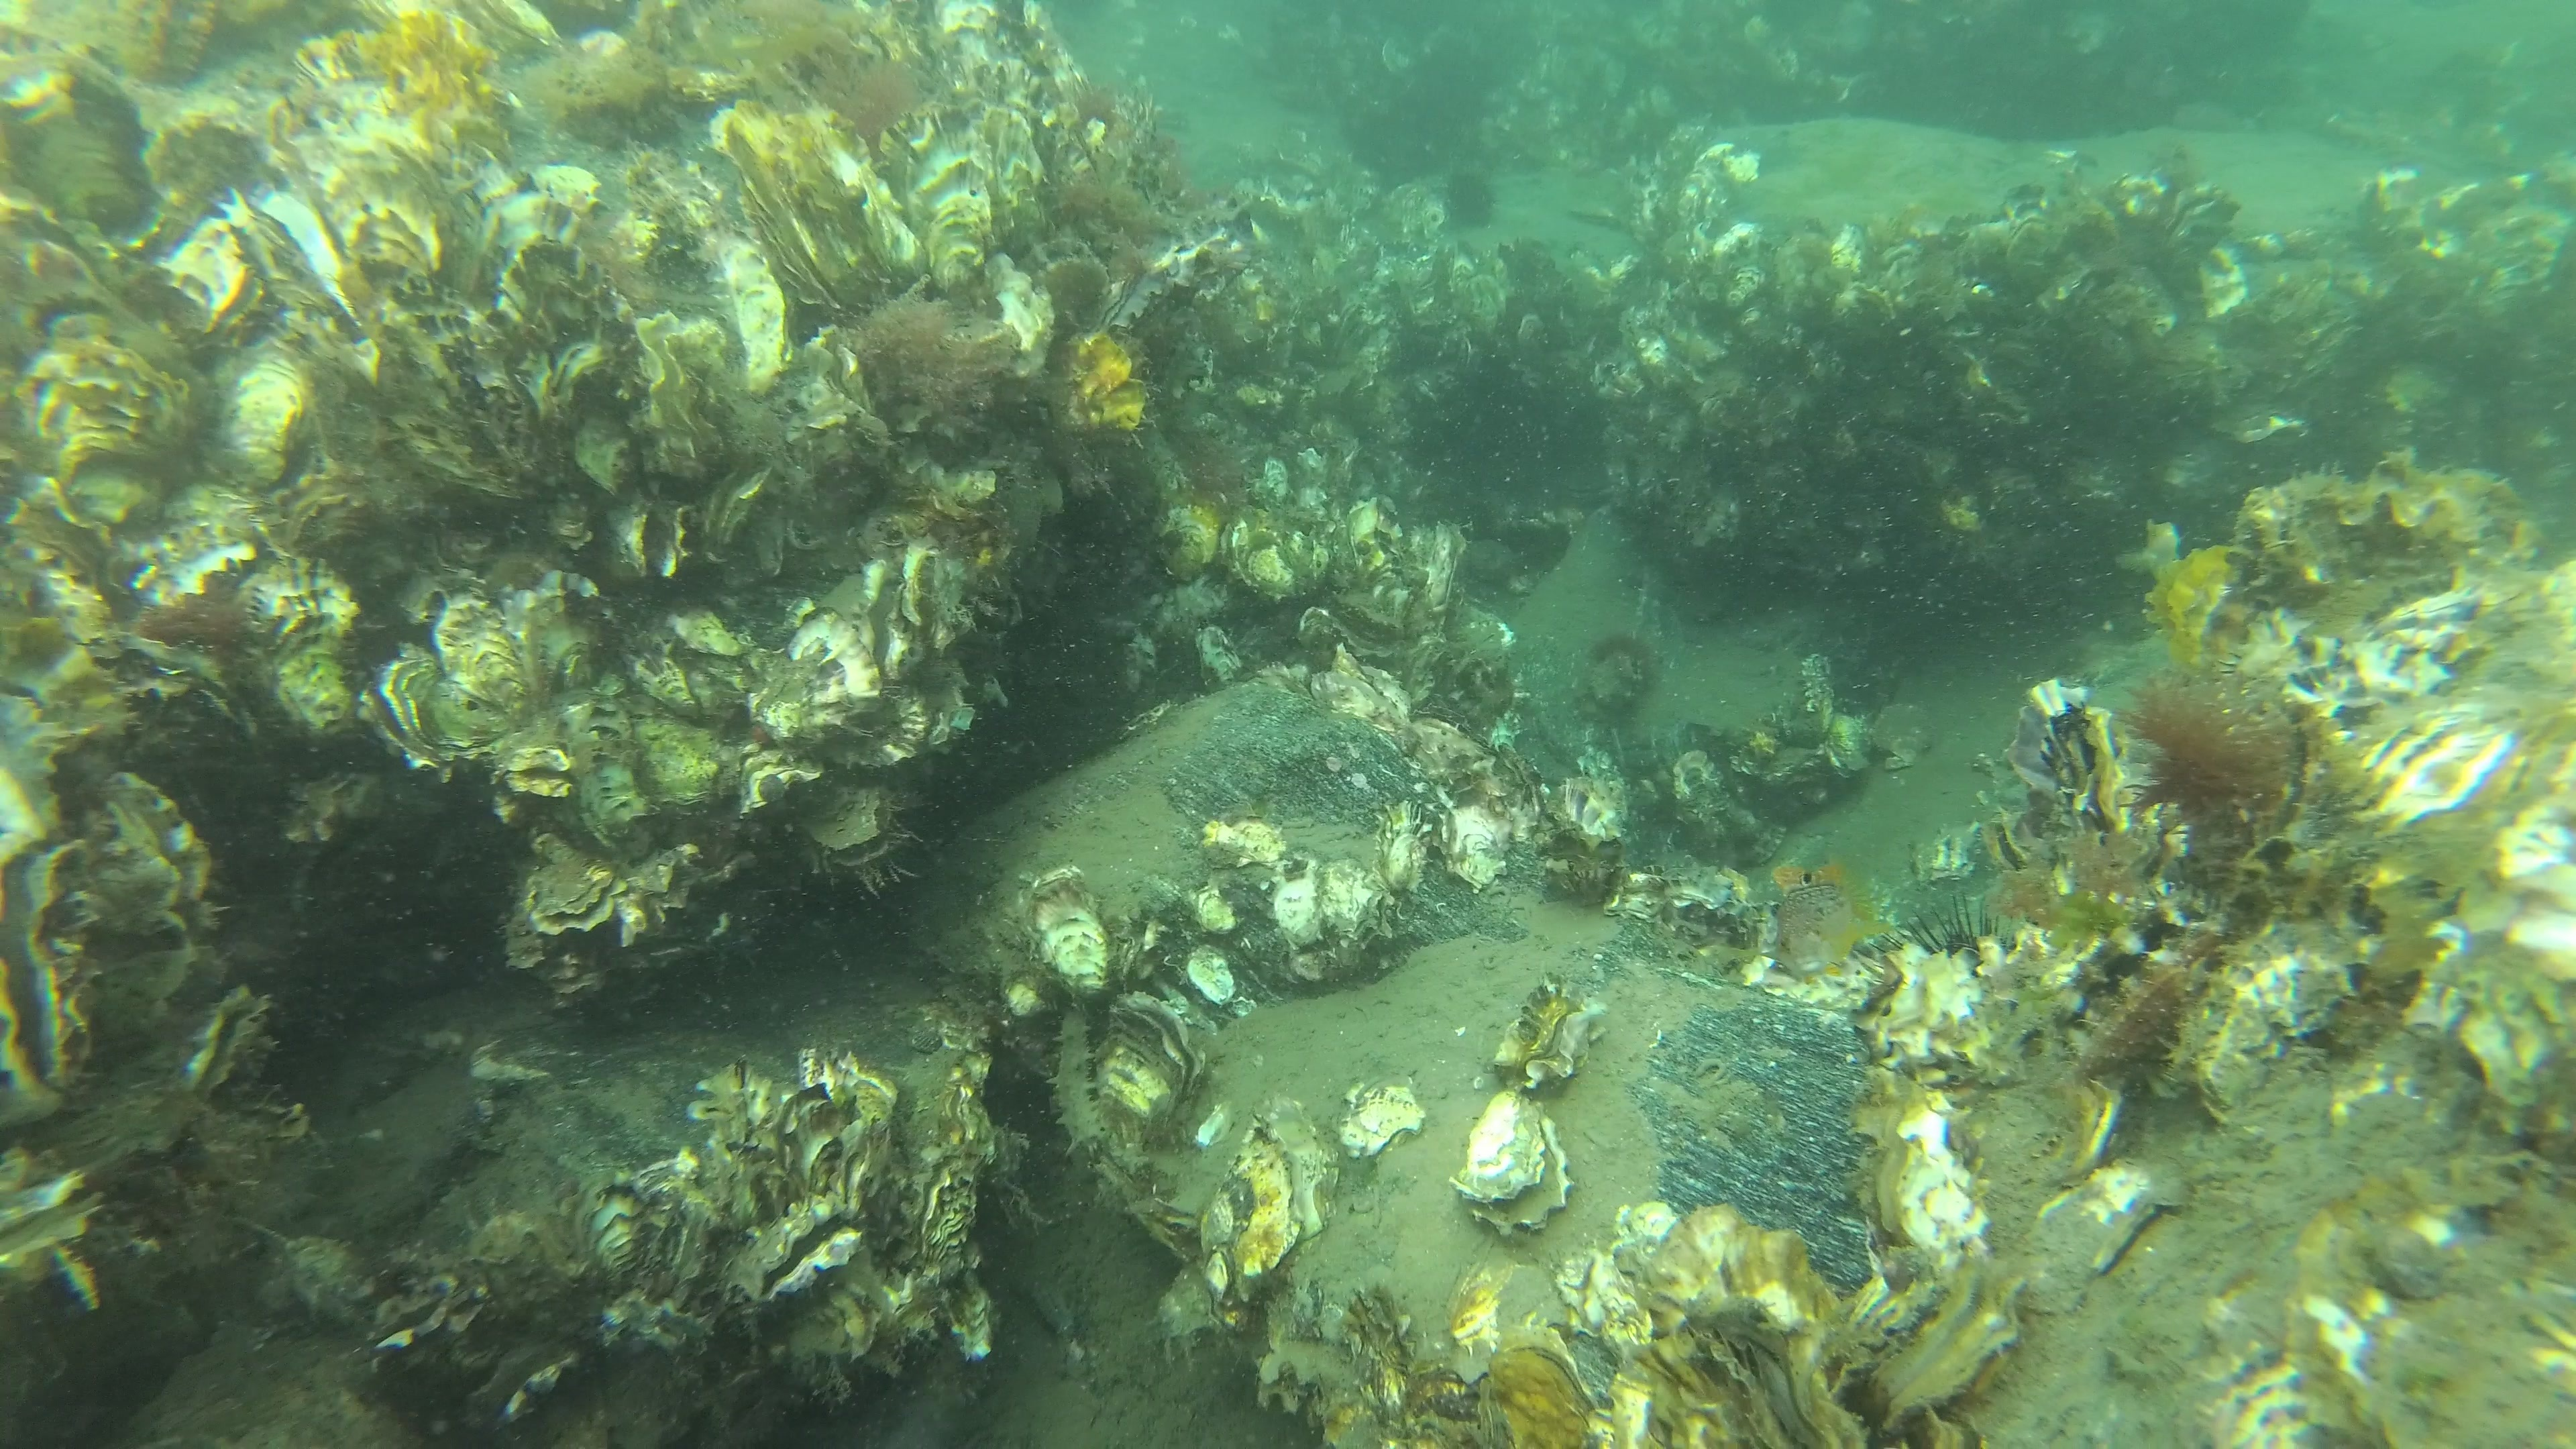echinus: (1440, 168, 1499, 234)
holothurian: (1040, 1003, 1108, 1159)
